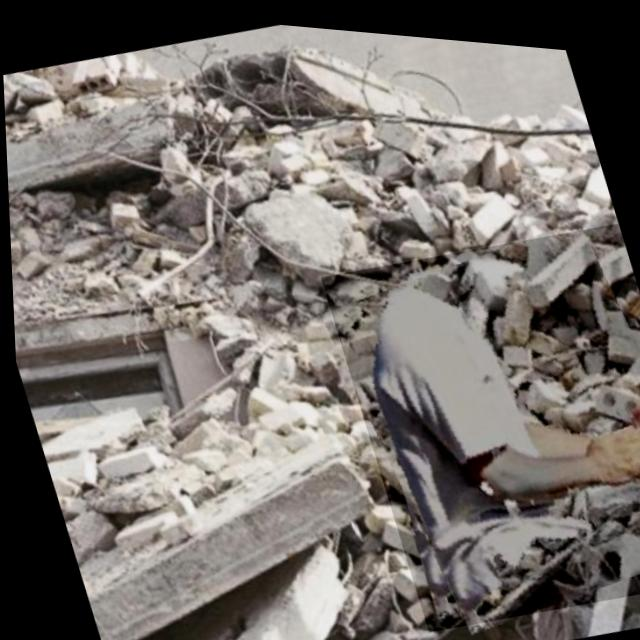Person in Rubble: (315, 190, 640, 640)
